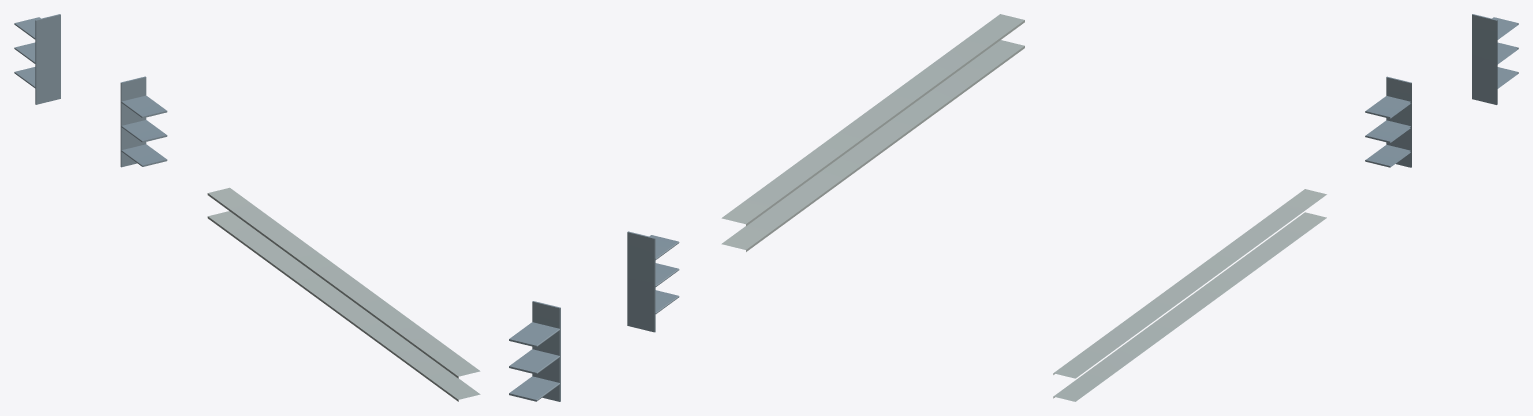
File: Shelves.glb
The picture shows the model from 3 angles, left to right: view 1: azimuth 30°, elevation 25°; view 2: azimuth 150°, elevation 25°; view 3: azimuth 330°, elevation 25°; orthographic projection. The views are drawn at different scales.
Parts seen in each view (by area): view 1: Shelves; view 2: Shelves; view 3: Shelves.
Part boxes in pixels (box(x1,y1,x2,y2)): Shelves: box(14, 14, 480, 401); Shelves: box(509, 14, 1024, 401); Shelves: box(1053, 14, 1518, 401).
Size of what is drawn, in the model's own units: 1.02 by 3.27 by 31.05.
Materials: 1 (1 with a texture image).
